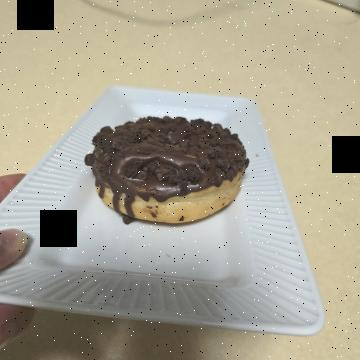doughnut: (112, 96, 244, 280)
